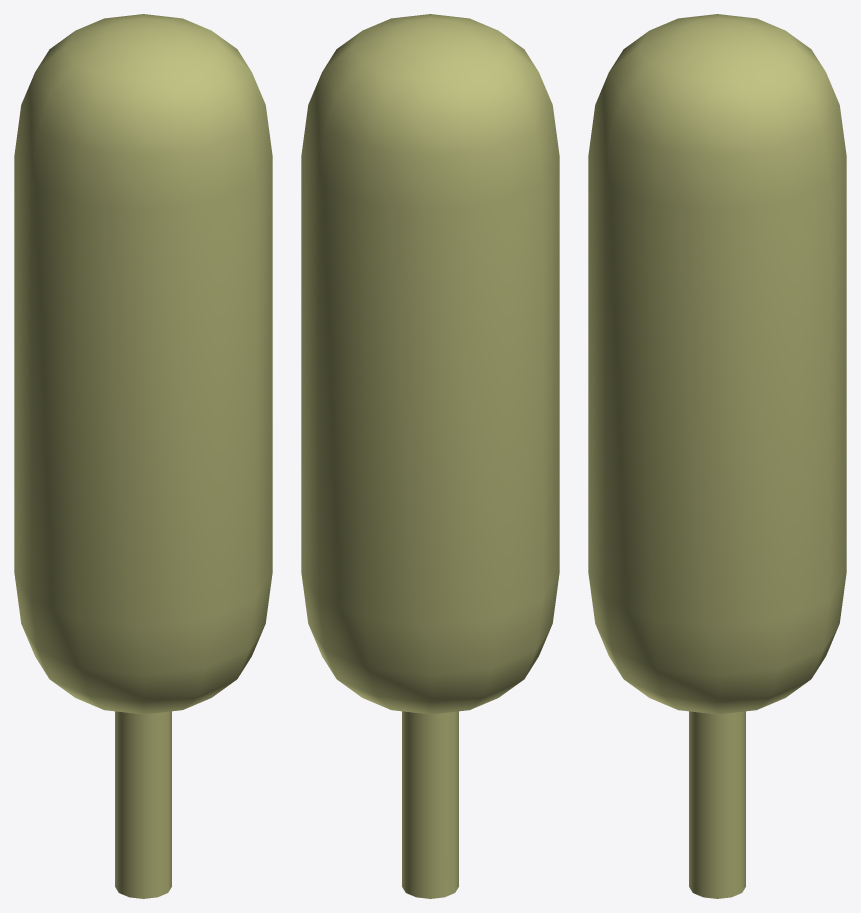
Rendered from Saguaro_Cactus_Analytical_0.obj.
The picture shows the model from 3 angles, left to right: view 1: azimuth 30°, elevation 25°; view 2: azimuth 150°, elevation 25°; view 3: azimuth 270°, elevation 25°; orthographic projection.
Visible parts, largest first — view 1: AnalyticalTrunk; view 2: AnalyticalTrunk; view 3: AnalyticalTrunk.
Part boxes in pixels (x1,y1,x2,y2): AnalyticalTrunk: (14, 14, 272, 898); AnalyticalTrunk: (301, 14, 559, 898); AnalyticalTrunk: (588, 14, 846, 898).
Size of the model in its own units: 1.64 by 6 by 1.64.
